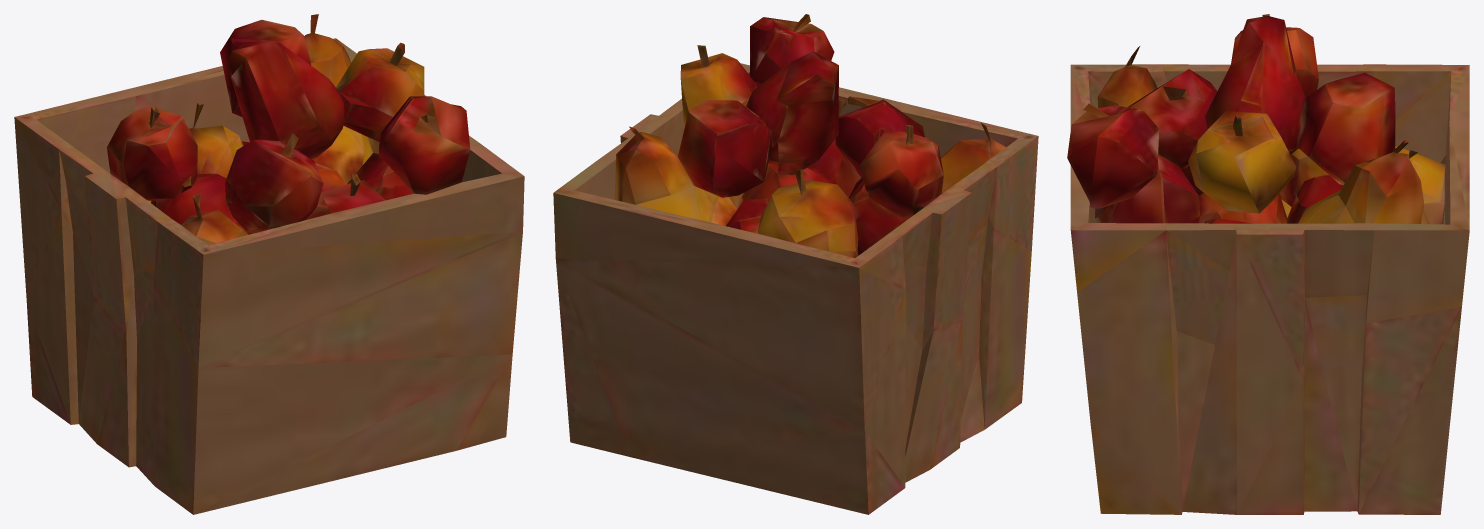
The model's file is crate-goods.lod1.glb.
The picture shows the model from 3 angles, left to right: view 1: azimuth 30°, elevation 25°; view 2: azimuth 150°, elevation 25°; view 3: azimuth 270°, elevation 25°; orthographic projection. The views are drawn at different scales.
Bounding box in the file's own units: 0.4559 × 0.4968 × 0.445.
Materials: 1 (1 with a texture image).
